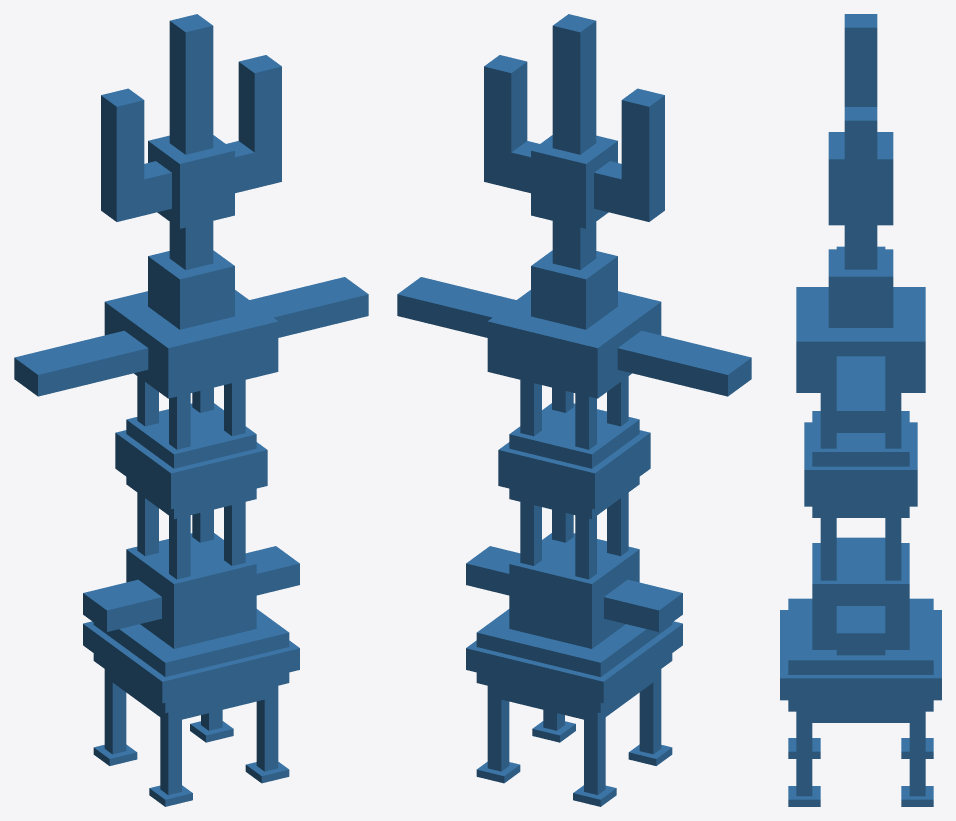
The model's file is tower.obj.
3 views of the same model, side by side, from view 1: azimuth 30°, elevation 25°; view 2: azimuth 150°, elevation 25°; view 3: azimuth 270°, elevation 25° (orthographic).
Parts seen in each view (by area): view 1: cuboid; view 2: cuboid; view 3: cuboid.
Boxes of the visible parts, x1,y1,x2,y2 form: cuboid: (14, 14, 368, 806); cuboid: (397, 14, 751, 806); cuboid: (780, 14, 941, 806).
Bounding box in the file's own units: 48 × 103 × 20.
1 material, 1 textured.
